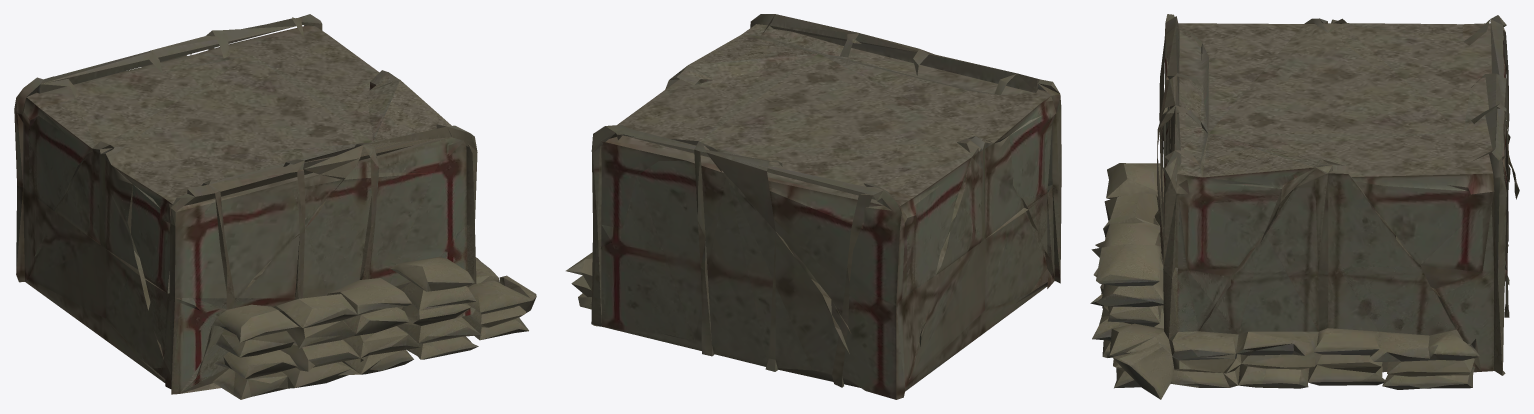
Rendered from barricade.glb.
3 views of the same model, side by side, from view 1: azimuth 30°, elevation 25°; view 2: azimuth 150°, elevation 25°; view 3: azimuth 270°, elevation 25° (orthographic). The views are drawn at different scales.
Size of the model in its own units: 2.35 by 1.3 by 2.33.
Materials: 1 (1 with a texture image).
